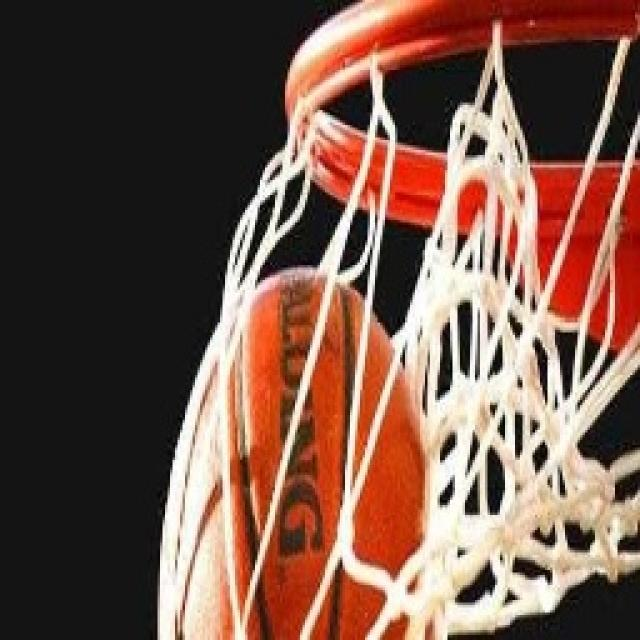rim: (143, 265, 444, 640)
